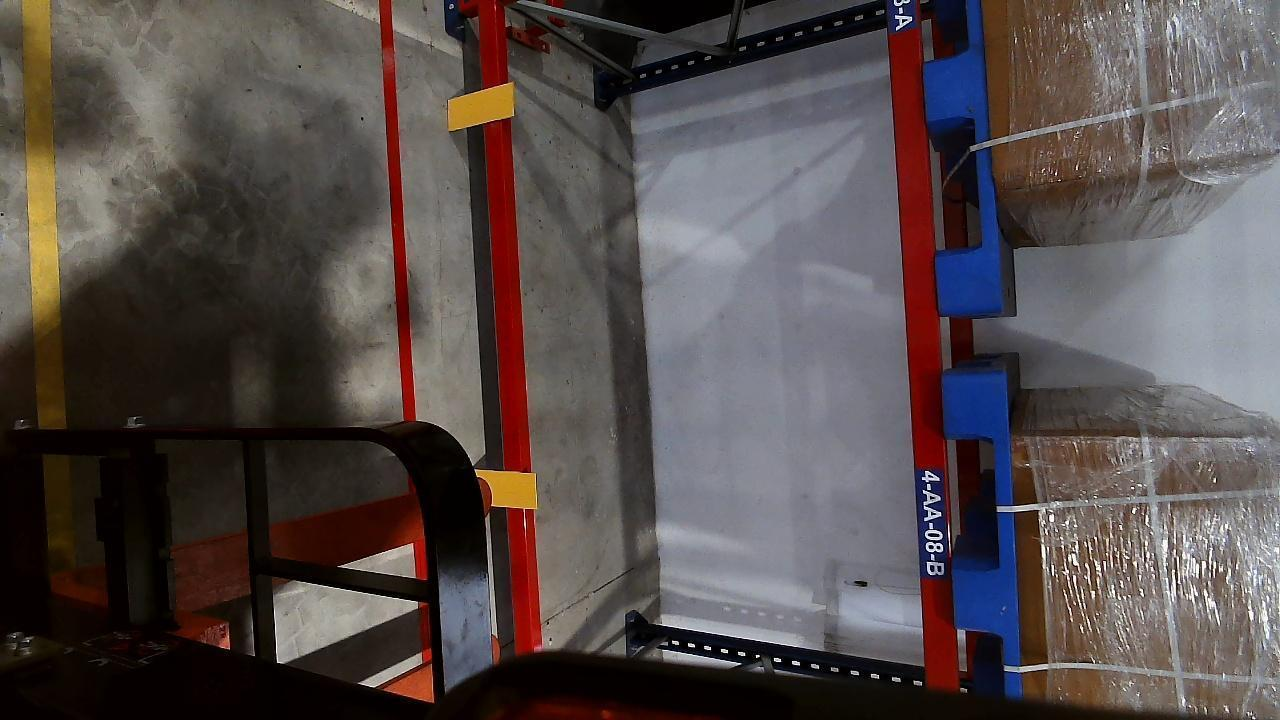red_line: (378, 0, 418, 422)
yellow_line: (18, 0, 65, 425)
